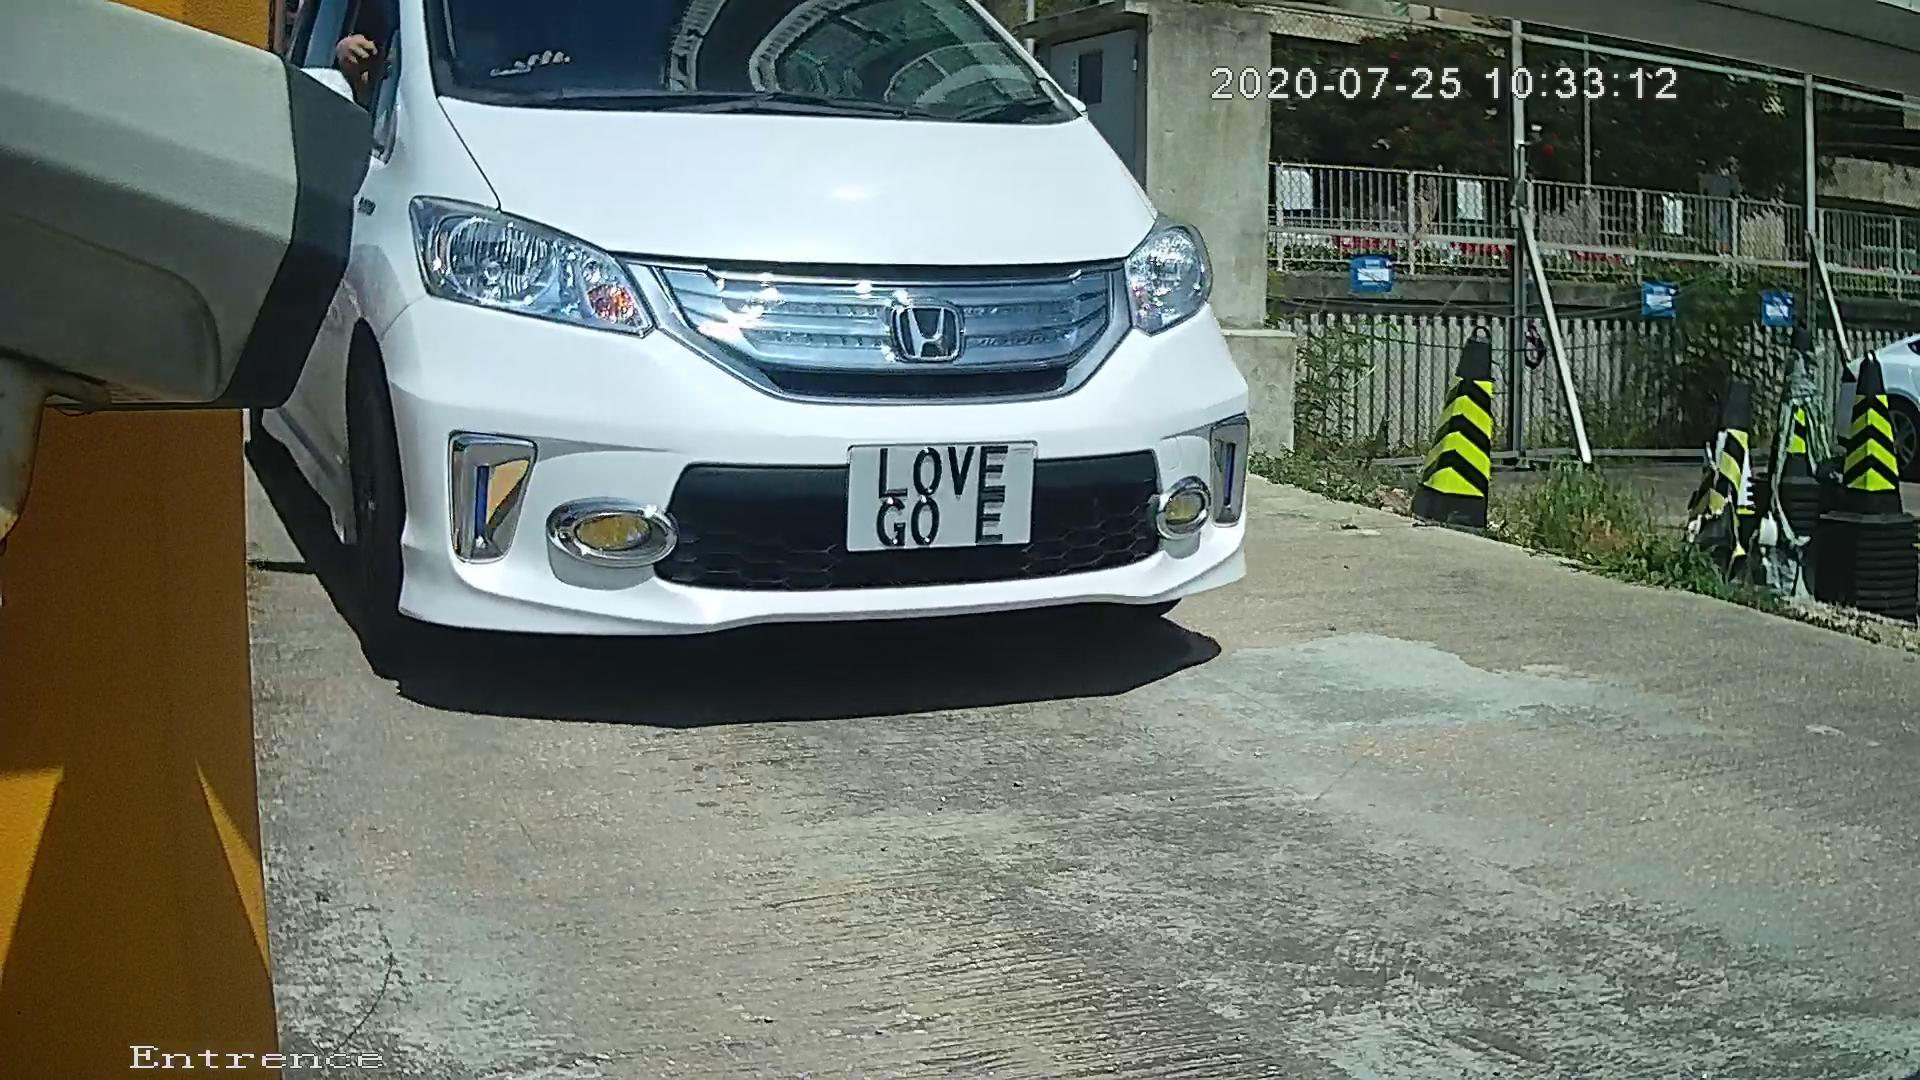Car: (103, 1, 1363, 724)
License Plate: (815, 420, 1055, 565)
